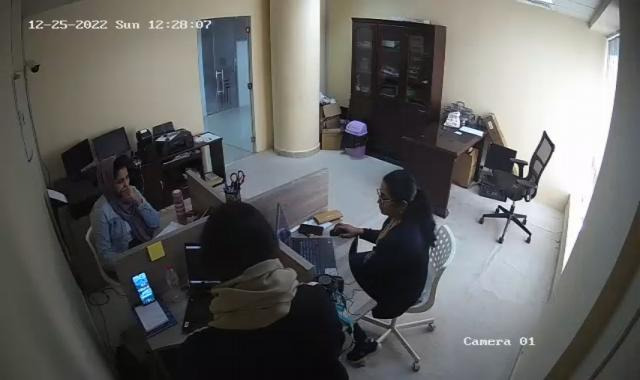no_hairnet: (199, 202, 281, 277), (376, 167, 424, 216), (96, 158, 132, 187), (397, 152, 398, 153)
